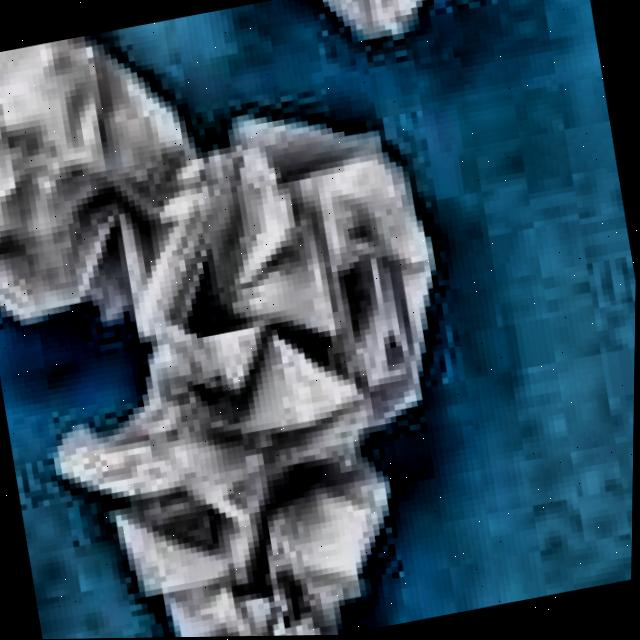paper: (0, 31, 459, 638)
